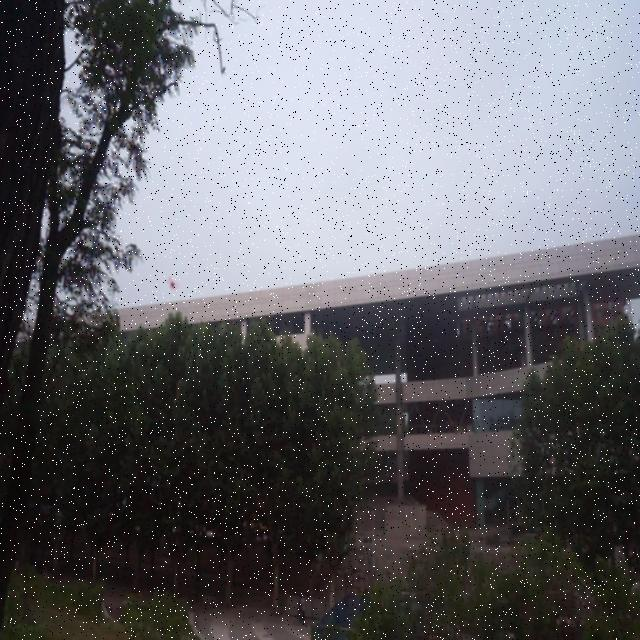UAV: (166, 276, 178, 292)
